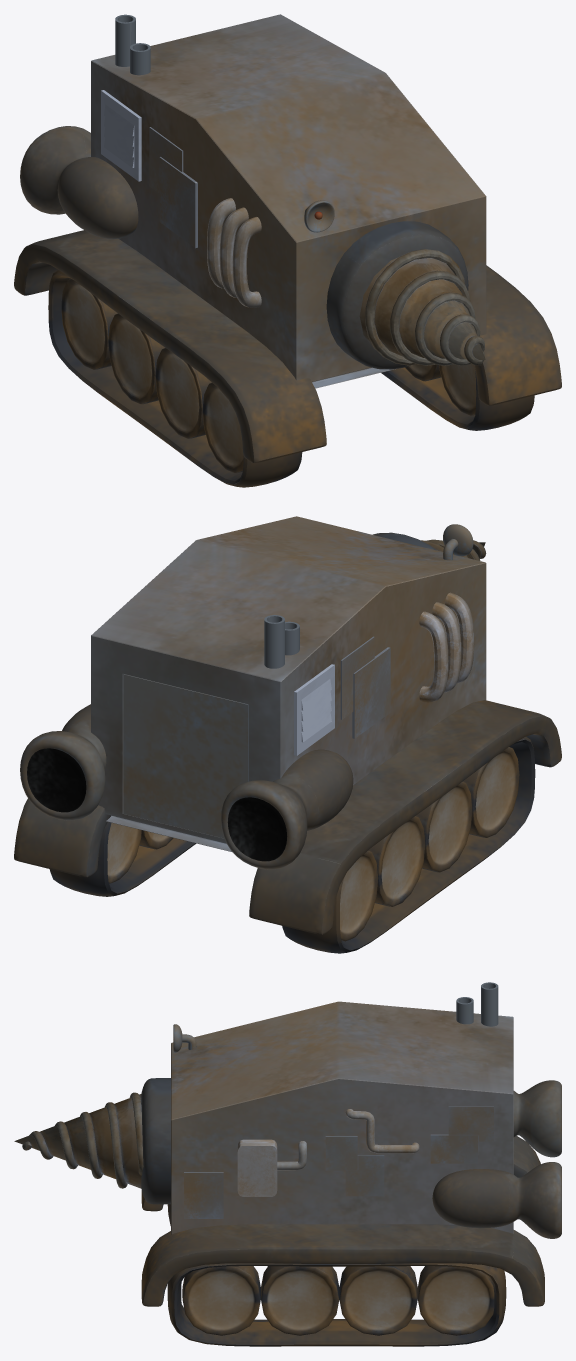
File: drill_exterior.fbx
3 renders of one model, top to bottom at view 1: azimuth 30°, elevation 25°; view 2: azimuth 150°, elevation 25°; view 3: azimuth 270°, elevation 25°, orthographic. The views are drawn at different scales.
Parts seen in each view (by area): view 1: drill_body, drill_tip, drill_wheen_02, drill_pipe; view 2: drill_body, drill_door, drill_booster, drill_wheen_02, drill_pipe; view 3: drill_body, drill_booster, drill_tip, drill_wheel_01, drill_battery.
Boxes of the visible parts, x1=… form: drill_body: x1=14, y1=14, x2=561, y2=487; drill_tip: x1=359, y1=249, x2=485, y2=365; drill_wheen_02: x1=61, y1=279, x2=117, y2=369; drill_pipe: x1=219, y1=207, x2=248, y2=297; drill_body: x1=14, y1=516, x2=561, y2=953; drill_door: x1=123, y1=674, x2=248, y2=838; drill_booster: x1=20, y1=704, x2=106, y2=820; drill_wheen_02: x1=340, y1=850, x2=378, y2=941; drill_pipe: x1=432, y1=602, x2=461, y2=692; drill_body: x1=141, y1=982, x2=561, y2=1346; drill_booster: x1=432, y1=1162, x2=561, y2=1238; drill_tip: x1=14, y1=1092, x2=143, y2=1188; drill_wheel_01: x1=261, y1=1266, x2=339, y2=1335; drill_battery: x1=237, y1=1139, x2=277, y2=1196.
Size of the model in its own units: 697 by 710 by 1281.
Materials: 1 (1 with a texture image).
